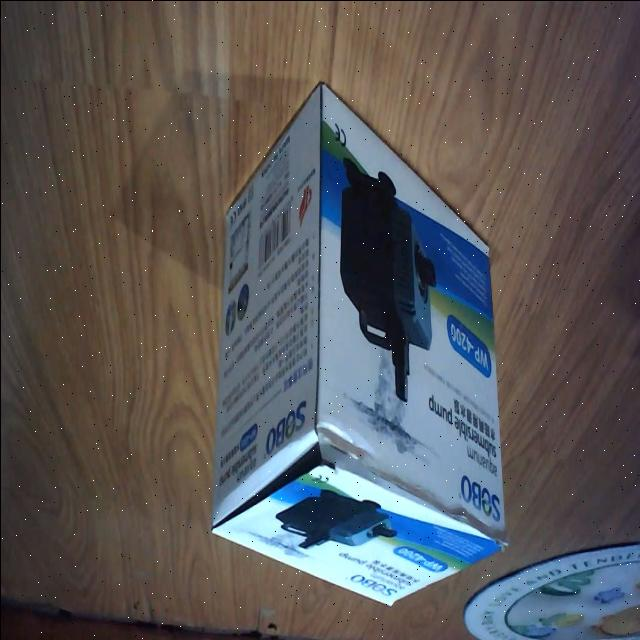SOBO_WP_4200: (207, 77, 509, 609)
